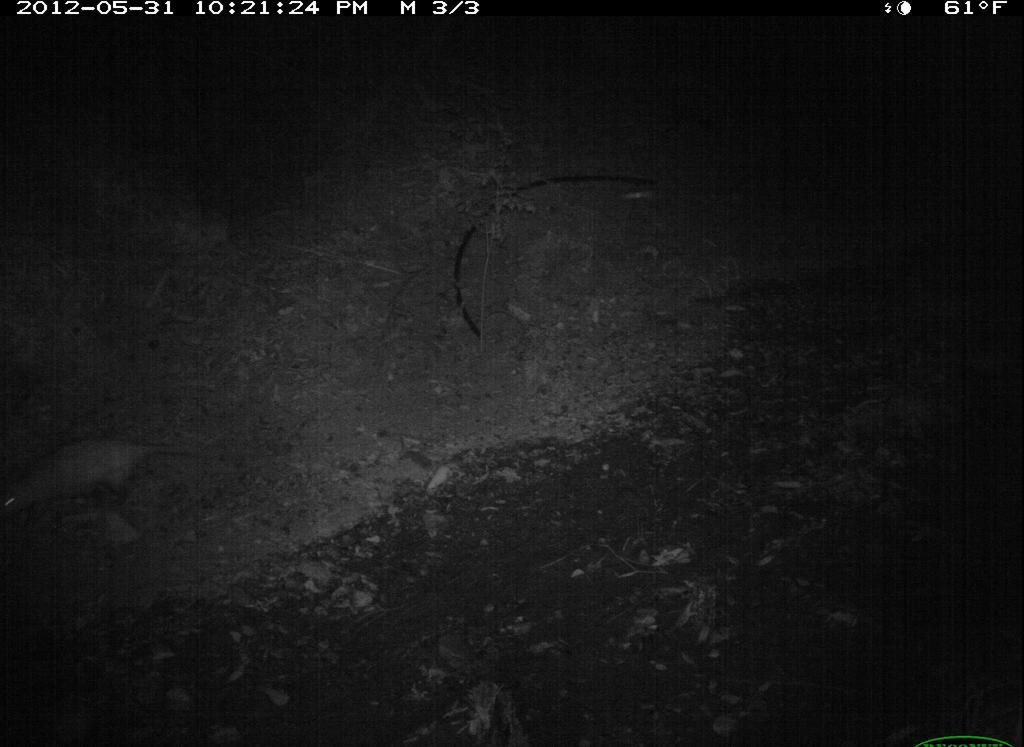opossum: (9, 425, 321, 533)
